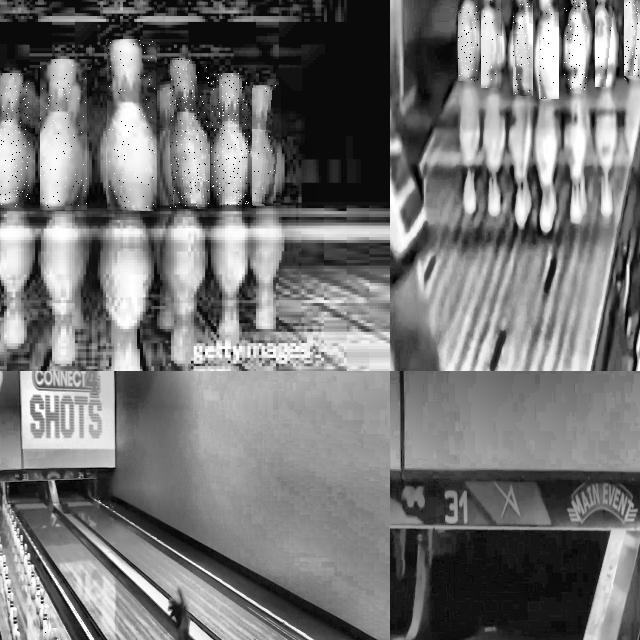bowling-pins: (108, 40, 155, 209), (40, 60, 87, 208), (171, 60, 209, 208), (211, 74, 250, 206), (0, 73, 30, 207), (253, 86, 279, 204), (565, 0, 587, 90), (539, 0, 556, 99), (459, 0, 478, 81), (482, 0, 499, 88), (595, 0, 612, 87), (515, 0, 530, 95), (625, 0, 639, 77), (43, 604, 49, 640)
